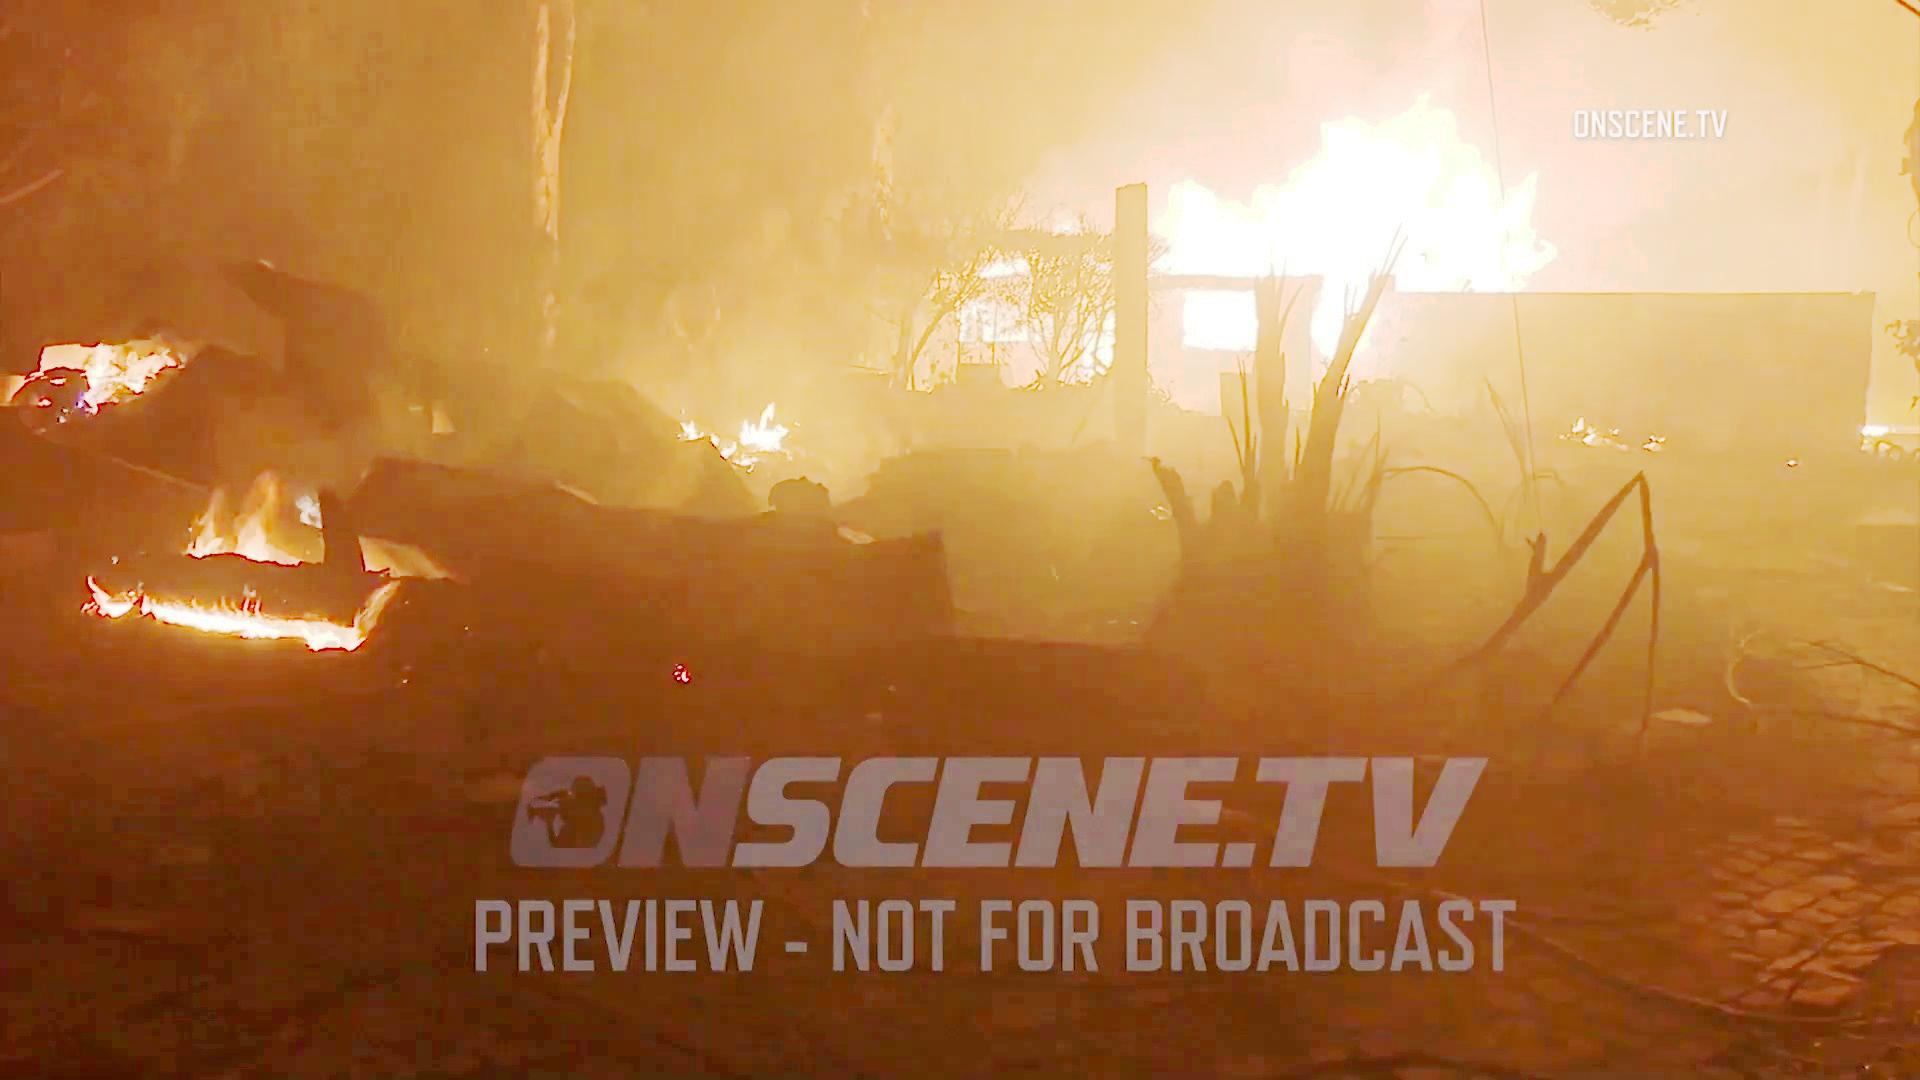fire: (1183, 69, 1578, 278), (116, 510, 385, 669)
